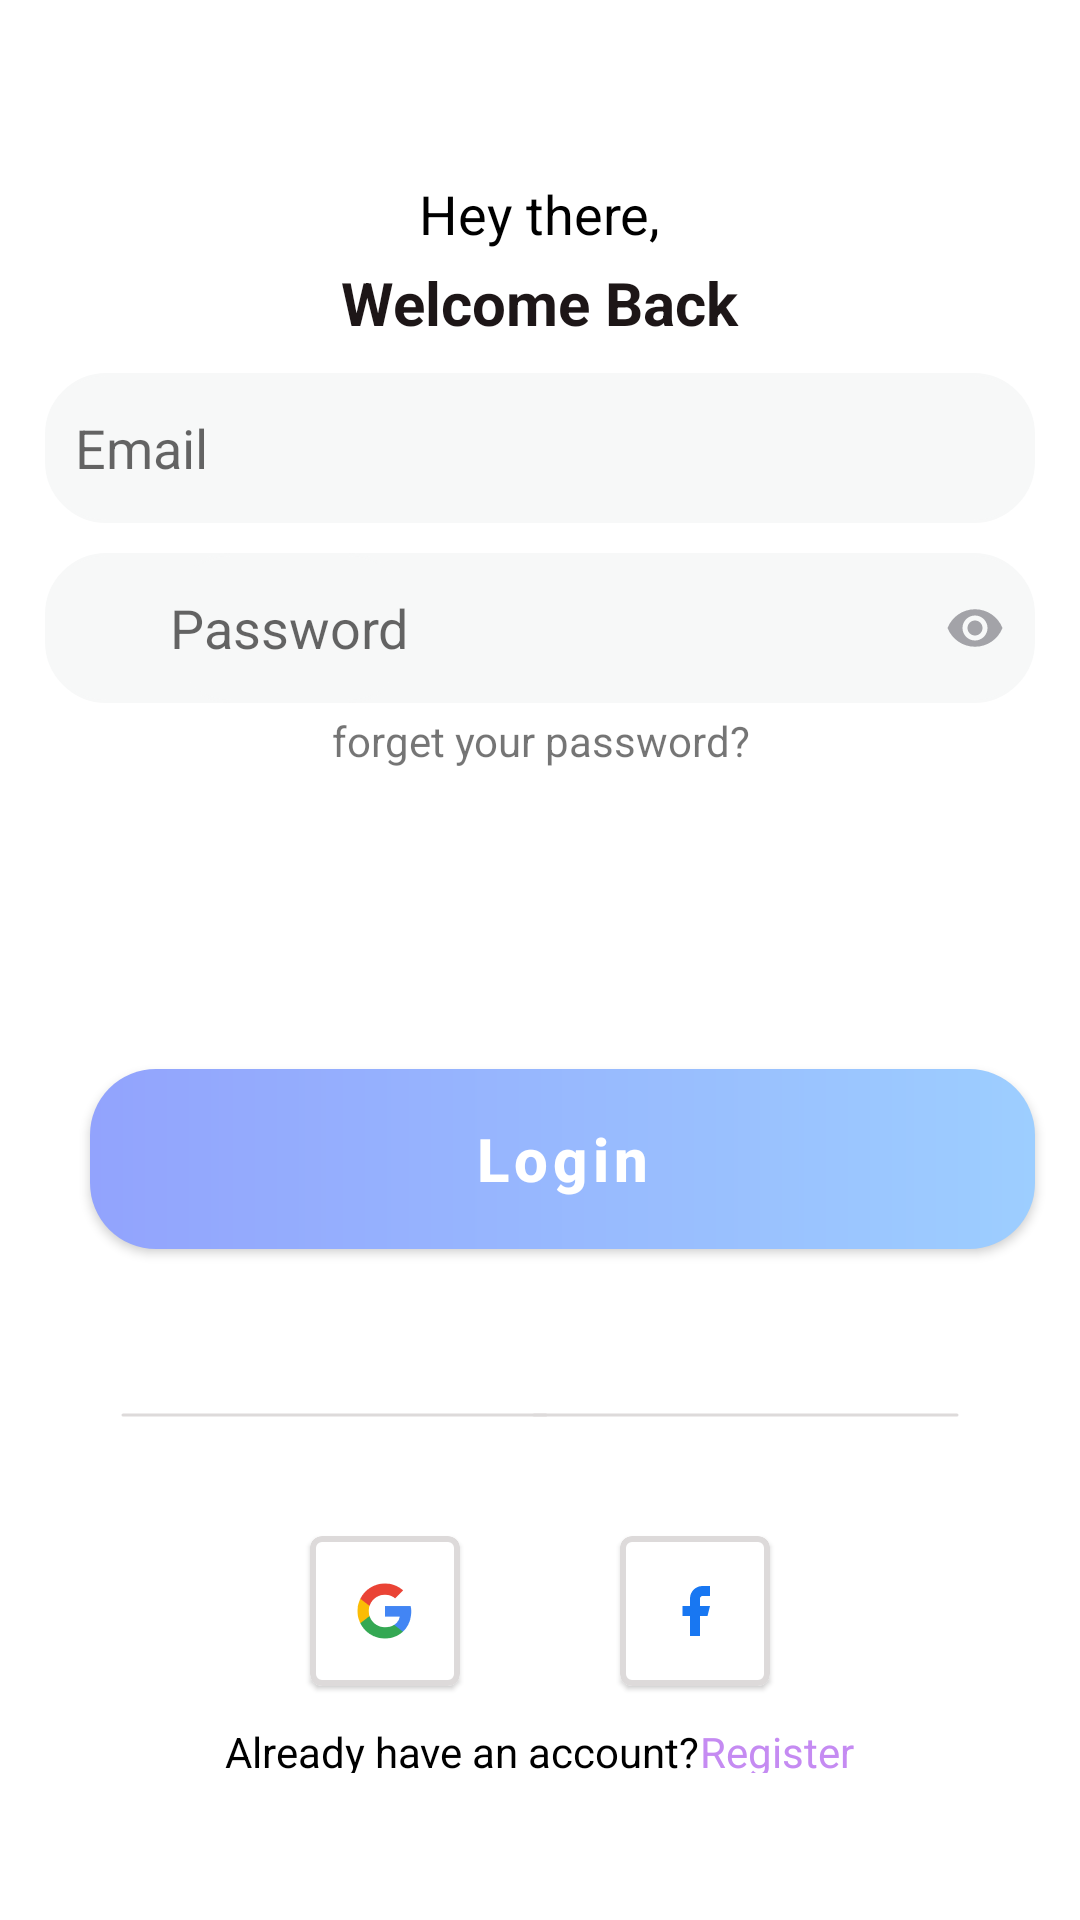

Where to tap for icons on this 1080px×1920px app screen, as [x,y]:
show password: [975,628]
